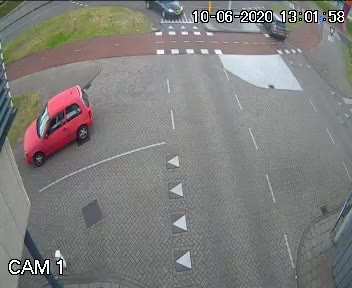car: (21, 81, 108, 168), (260, 13, 291, 46), (143, 0, 184, 19)
